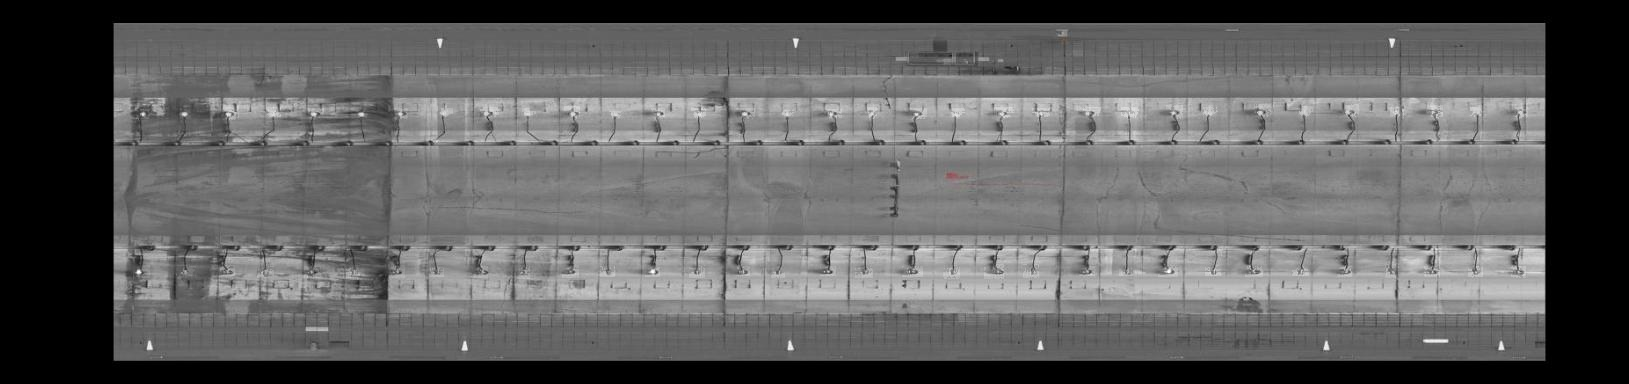light: (984, 264, 1004, 279), (220, 105, 239, 120), (1254, 104, 1271, 119), (1166, 105, 1183, 119), (386, 265, 405, 278), (1158, 265, 1178, 277), (1343, 104, 1359, 119), (943, 265, 960, 279), (1121, 107, 1139, 120), (132, 265, 150, 278), (902, 266, 923, 277), (1083, 107, 1101, 119), (480, 107, 499, 119), (302, 266, 321, 278), (1427, 105, 1443, 119), (175, 266, 196, 276), (1023, 264, 1039, 278), (994, 107, 1014, 118), (736, 108, 755, 119), (1297, 106, 1313, 119), (264, 107, 281, 120), (562, 265, 579, 278), (689, 265, 705, 278), (257, 266, 274, 278), (471, 266, 488, 278), (855, 266, 873, 278), (1032, 108, 1050, 119), (1245, 266, 1263, 277), (1385, 264, 1399, 278), (564, 106, 580, 119), (176, 106, 191, 119), (909, 108, 927, 119), (306, 108, 324, 119), (950, 108, 965, 120), (691, 107, 706, 119), (437, 106, 453, 118), (1511, 266, 1526, 278), (218, 265, 235, 276), (1390, 107, 1404, 120), (517, 266, 531, 279), (1203, 107, 1218, 119), (1468, 266, 1483, 278), (393, 108, 408, 119), (1205, 265, 1221, 276), (1424, 266, 1440, 277), (823, 109, 842, 118), (820, 266, 836, 276), (1292, 266, 1309, 276), (1514, 107, 1528, 118), (522, 108, 536, 119), (135, 108, 150, 119), (346, 267, 360, 278), (600, 266, 615, 277), (1337, 266, 1352, 277), (1079, 266, 1095, 276), (1470, 107, 1483, 119), (354, 110, 371, 119), (427, 268, 444, 277), (645, 267, 660, 277), (736, 266, 750, 276), (1119, 267, 1134, 276), (771, 269, 785, 278), (867, 107, 878, 119), (607, 111, 622, 119), (651, 108, 665, 117), (782, 110, 794, 119)
